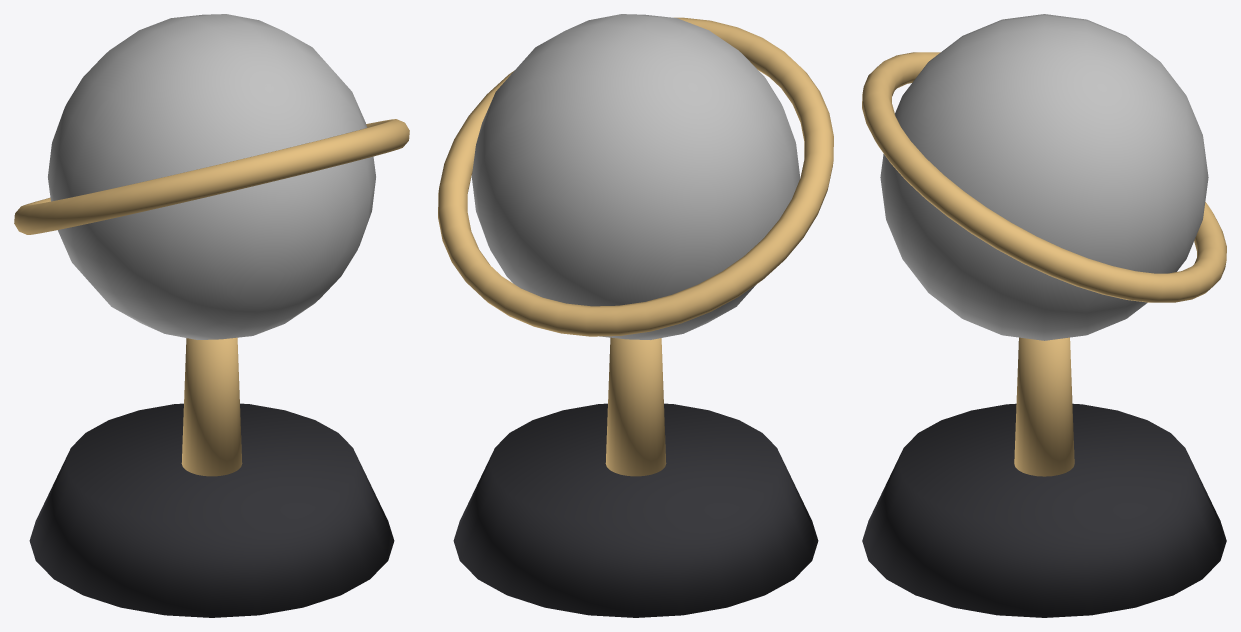
File: analyzer.glb
3 views of the same model, side by side, from view 1: azimuth 30°, elevation 25°; view 2: azimuth 150°, elevation 25°; view 3: azimuth 270°, elevation 25° (orthographic).
Visible parts, largest first — view 1: machines/analyzer; view 2: machines/analyzer; view 3: machines/analyzer.
Boxes of the visible parts, bbox=[...] form: machines/analyzer: bbox=[14, 14, 409, 617]; machines/analyzer: bbox=[438, 14, 833, 617]; machines/analyzer: bbox=[862, 14, 1226, 617].
Size of the model in its own units: 0.6683 by 0.93 by 0.6004.
